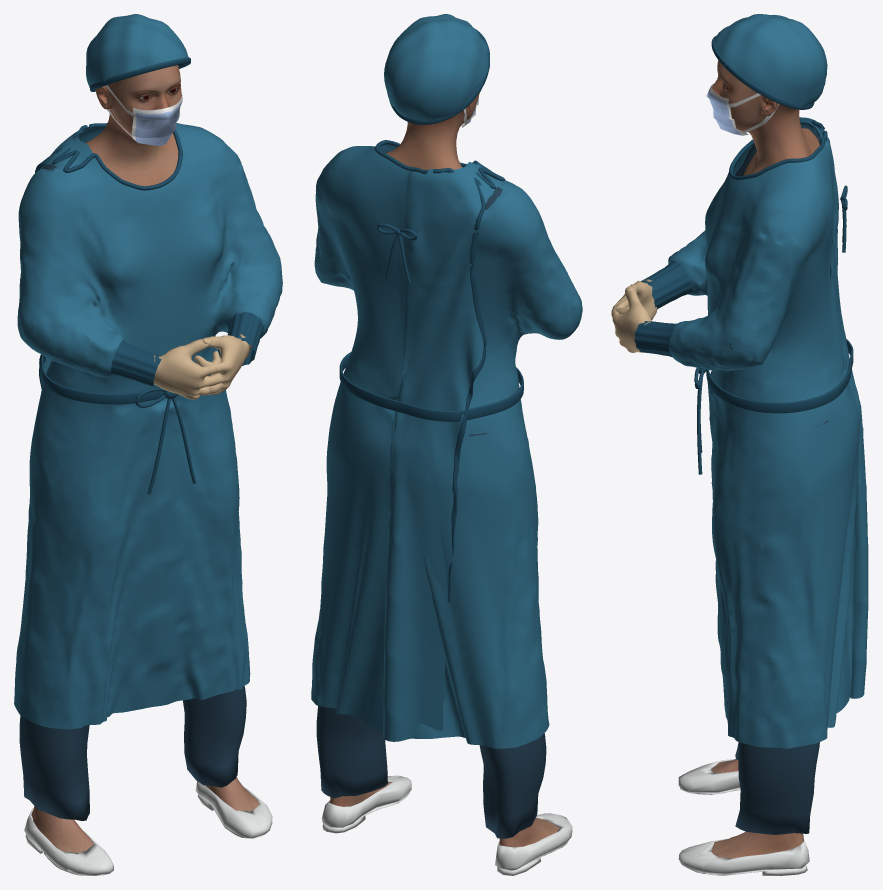
The model's file is paso-6-ar.glb.
3 views of the same model, side by side, from view 1: azimuth 30°, elevation 25°; view 2: azimuth 150°, elevation 25°; view 3: azimuth 270°, elevation 25° (orthographic).
Visible parts, largest first — view 1: gown, Human.toigo_wool_pants-static, Human-static, surgical-cap, Human.toigo_gloves_short-static, Human.toigo_flats-static, Human.joepal_medical_mouth_protection-static, cuff-R, neck-binding, tie-waist-belt, cuff-L, cap-elastic; view 2: gown, Human.toigo_wool_pants-static, surgical-cap, Human-static, Human.toigo_flats-static, tie-waist-belt, wrap-edge, neck-binding, cap-elastic; view 3: gown, surgical-cap, Human-static, Human.toigo_wool_pants-static, Human.toigo_flats-static, Human.toigo_gloves_short-static, tie-waist-belt, cuff-R, cuff-L, Human.joepal_medical_mouth_protection-static, neck-binding, cap-elastic.
Boxes of the visible parts, <box> form: gown: <box>14,123,282,729</box>; Human.toigo_wool_pants-static: <box>19,685,246,820</box>; Human-static: <box>31,65,259,852</box>; surgical-cap: <box>86,14,188,87</box>; Human.toigo_gloves_short-static: <box>153,334,250,399</box>; Human.toigo_flats-static: <box>24,781,272,875</box>; Human.joepal_medical_mouth_protection-static: <box>106,85,182,145</box>; cuff-R: <box>110,340,161,387</box>; neck-binding: <box>35,123,182,190</box>; tie-waist-belt: <box>41,349,220,404</box>; cuff-L: <box>227,311,264,365</box>; cap-elastic: <box>90,57,190,91</box>; gown: <box>311,144,582,748</box>; Human.toigo_wool_pants-static: <box>316,706,546,838</box>; surgical-cap: <box>384,14,488,121</box>; Human-static: <box>329,92,559,847</box>; Human.toigo_flats-static: <box>321,775,572,875</box>; tie-waist-belt: <box>339,352,523,421</box>; wrap-edge: <box>448,232,486,602</box>; neck-binding: <box>374,140,505,230</box>; cap-elastic: <box>390,29,489,124</box>; gown: <box>668,117,868,748</box>; surgical-cap: <box>714,14,827,107</box>; Human-static: <box>711,60,819,858</box>; Human.toigo_wool_pants-static: <box>735,742,819,834</box>; Human.toigo_flats-static: <box>678,759,809,875</box>; Human.toigo_gloves_short-static: <box>611,279,657,352</box>; tie-waist-belt: <box>706,339,853,413</box>; cuff-R: <box>641,260,692,308</box>; cuff-L: <box>634,321,677,357</box>; Human.joepal_medical_mouth_protection-static: <box>706,83,779,135</box>; neck-binding: <box>729,119,830,180</box>; cap-elastic: <box>711,35,814,109</box>.
Size of the model in its own units: 0.5663 by 1.7 by 0.49.
Materials: 16 (8 with a texture image).
